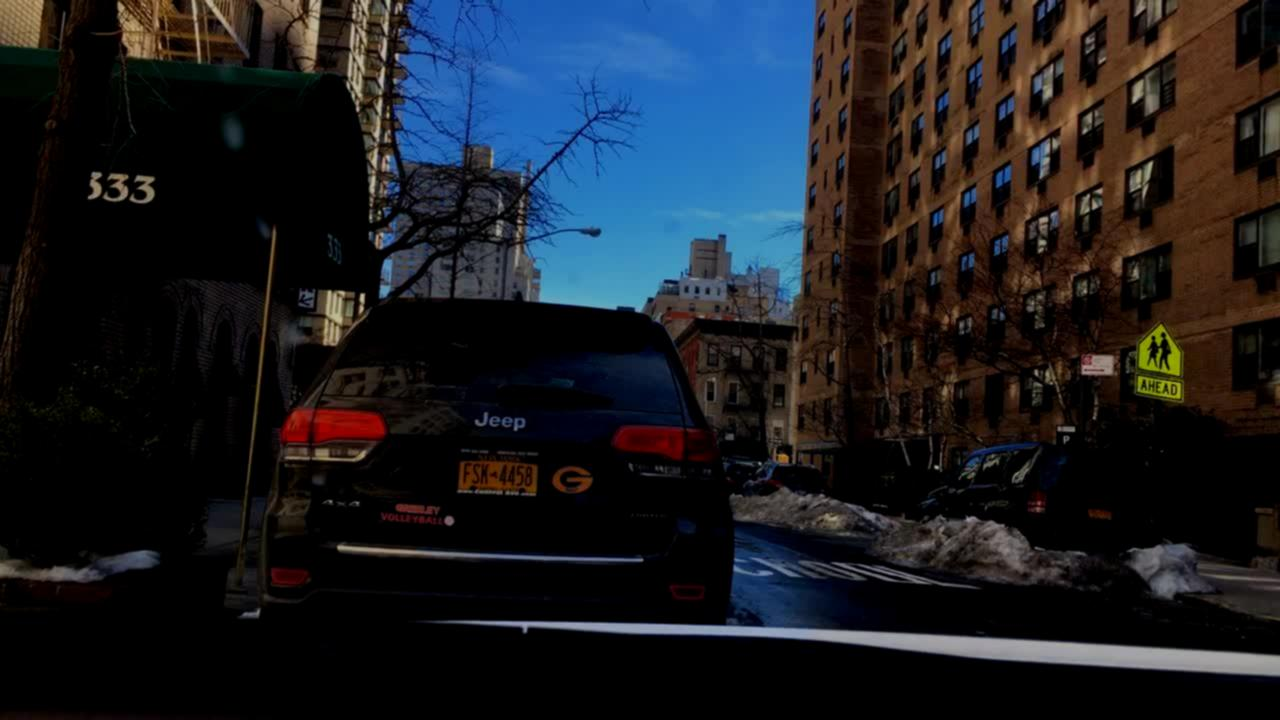jeep: (473, 408, 531, 436)
